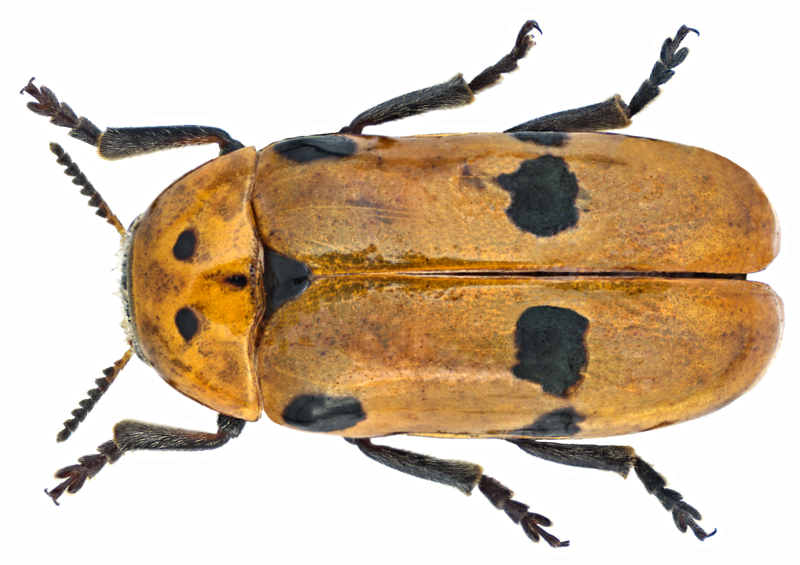Clytra_novempunctata: (11, 16, 792, 548)
